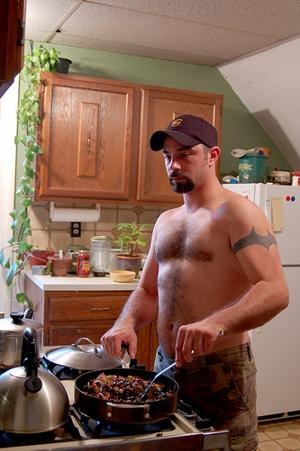person: (100, 114, 289, 449)
